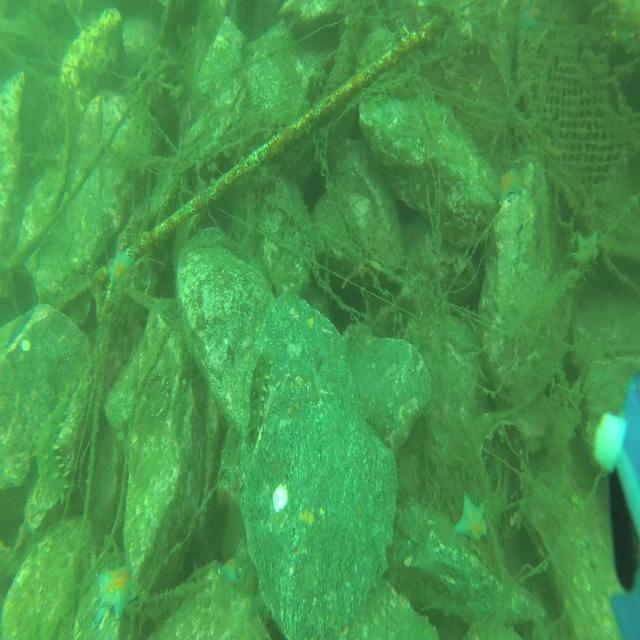holothurian: (31, 394, 73, 507), (248, 348, 274, 447)
starfish: (92, 564, 138, 628), (452, 490, 488, 548), (4, 305, 36, 349), (571, 229, 602, 271), (498, 161, 524, 207), (107, 250, 135, 286), (517, 2, 546, 32), (216, 556, 243, 585), (183, 380, 200, 421)
